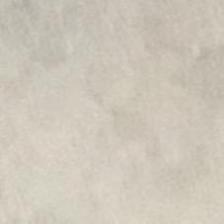Non_Crack: (20, 14, 213, 178)
